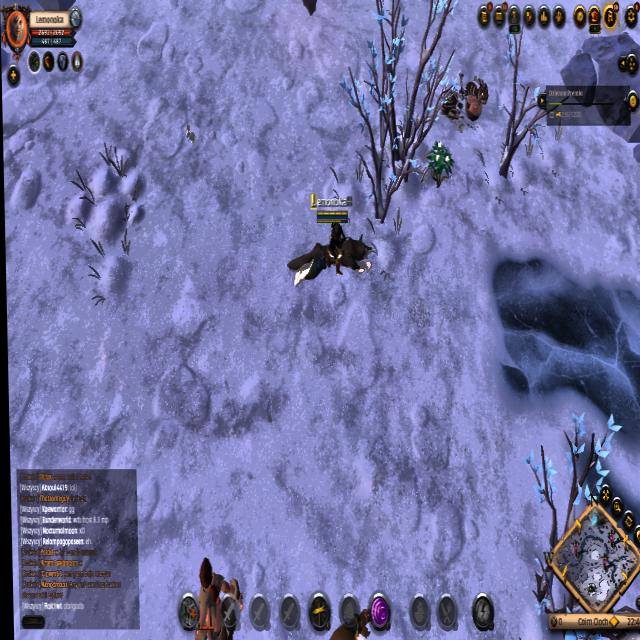fiber tier 3: (424, 137, 455, 191)
